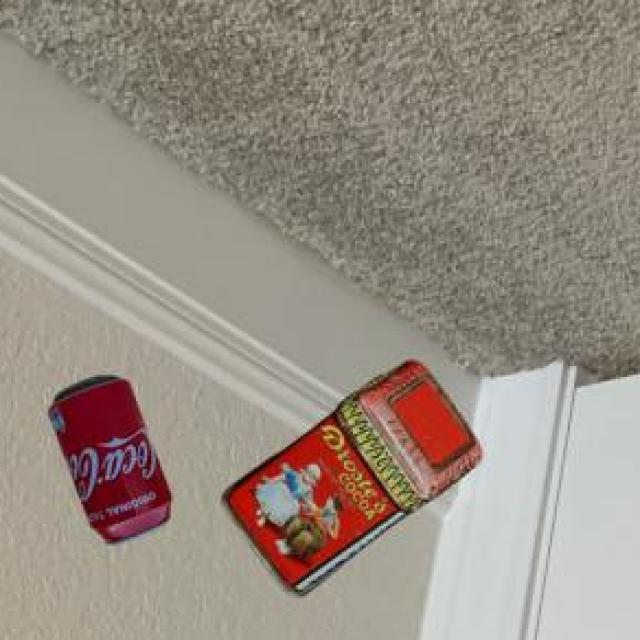logam: (225, 365, 485, 599), (52, 380, 174, 547)
